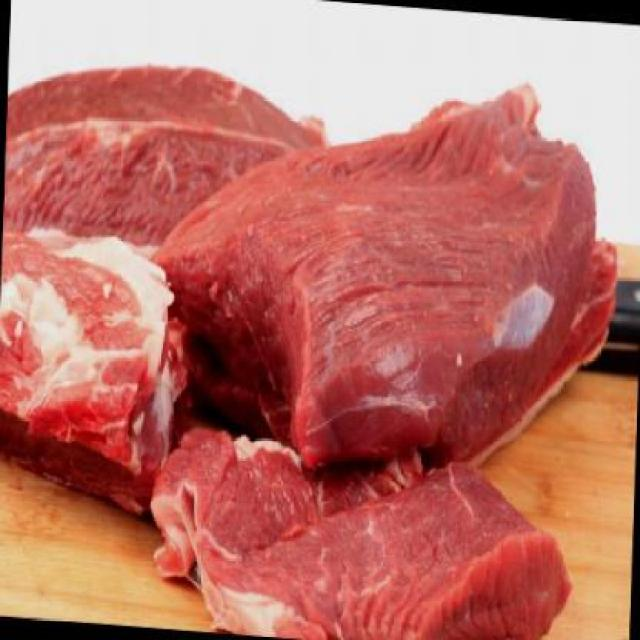beef: (138, 56, 624, 487), (148, 418, 582, 638), (6, 52, 334, 272), (0, 219, 197, 527)
